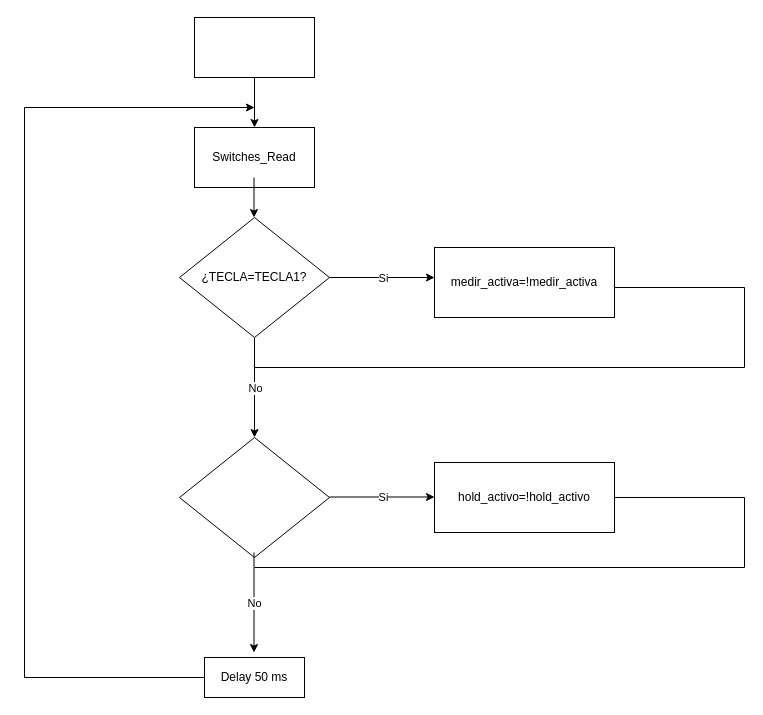
Some shapes in this 763 by 715 pixel diagram are drawn without their labels. The shapes that lost their labels are listed below. From the top down, each one's box as (x1, y1, x2, y2) in pixels, then its label:
(194, 16, 314, 78): Teclas
(178, 436, 330, 558): ¿TECLA=TECLA2?
